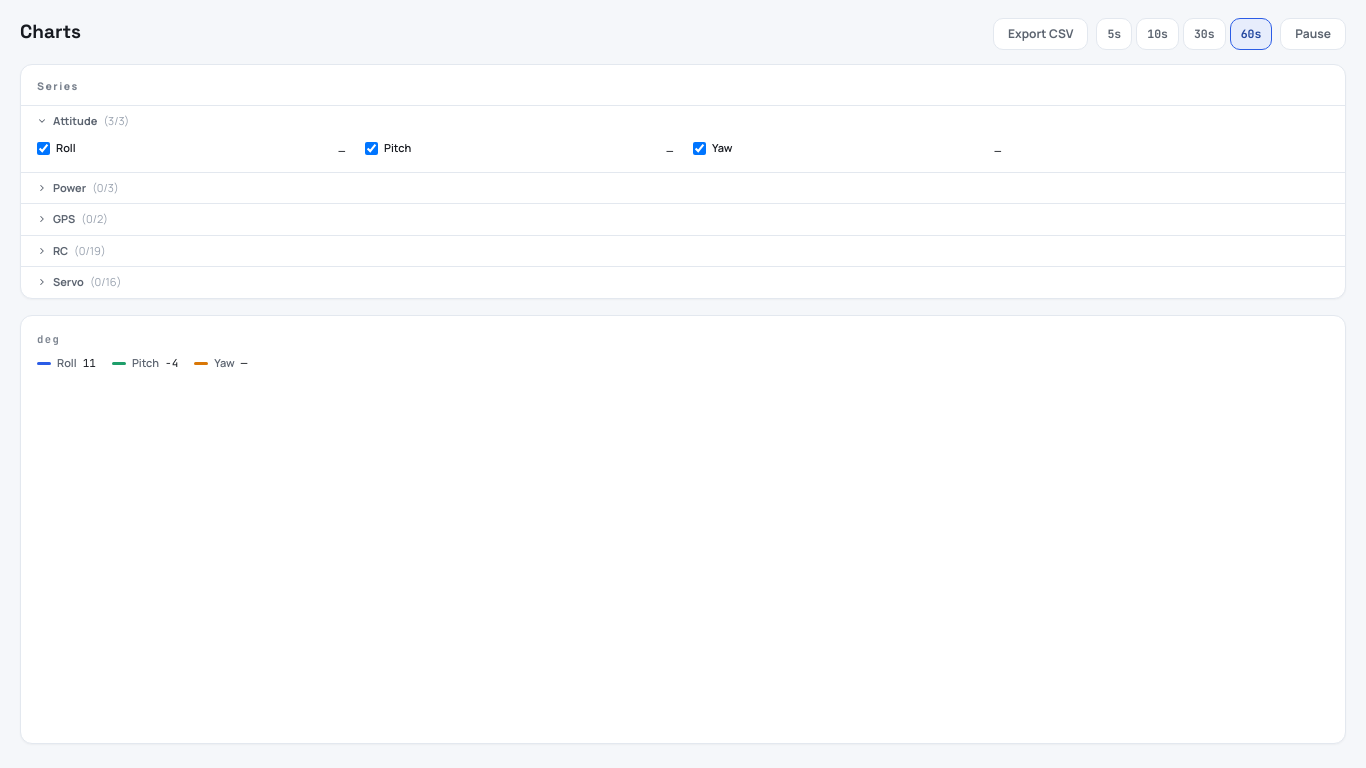
Test: ChartsPage › collapsing a group preserves its selection: the subplot stays, the header count still shows it, re-expanding finds it checked
Click the button "RC (0/19)" at (42, 251), box [21,236,1345,266]
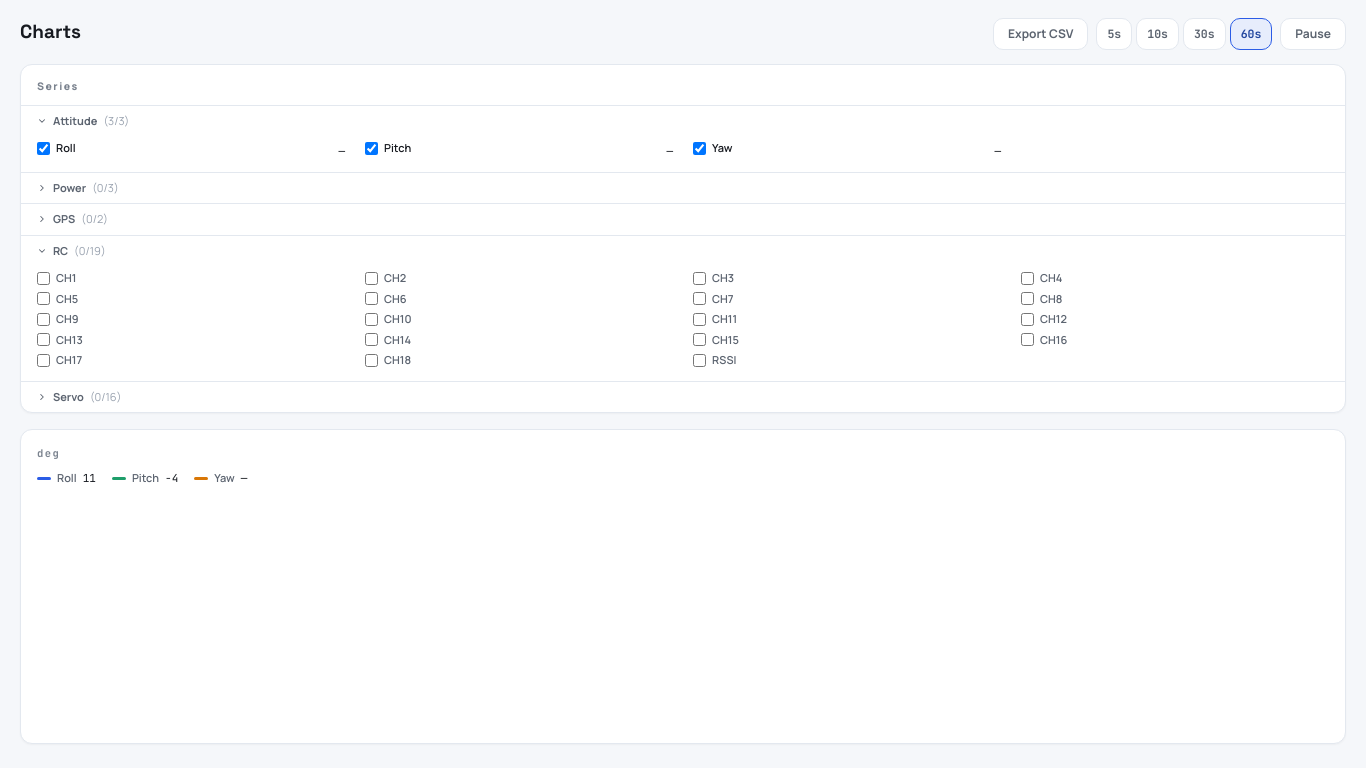
Click the checkbox labelled "CH3" at (700, 278), box [693,272,706,285]
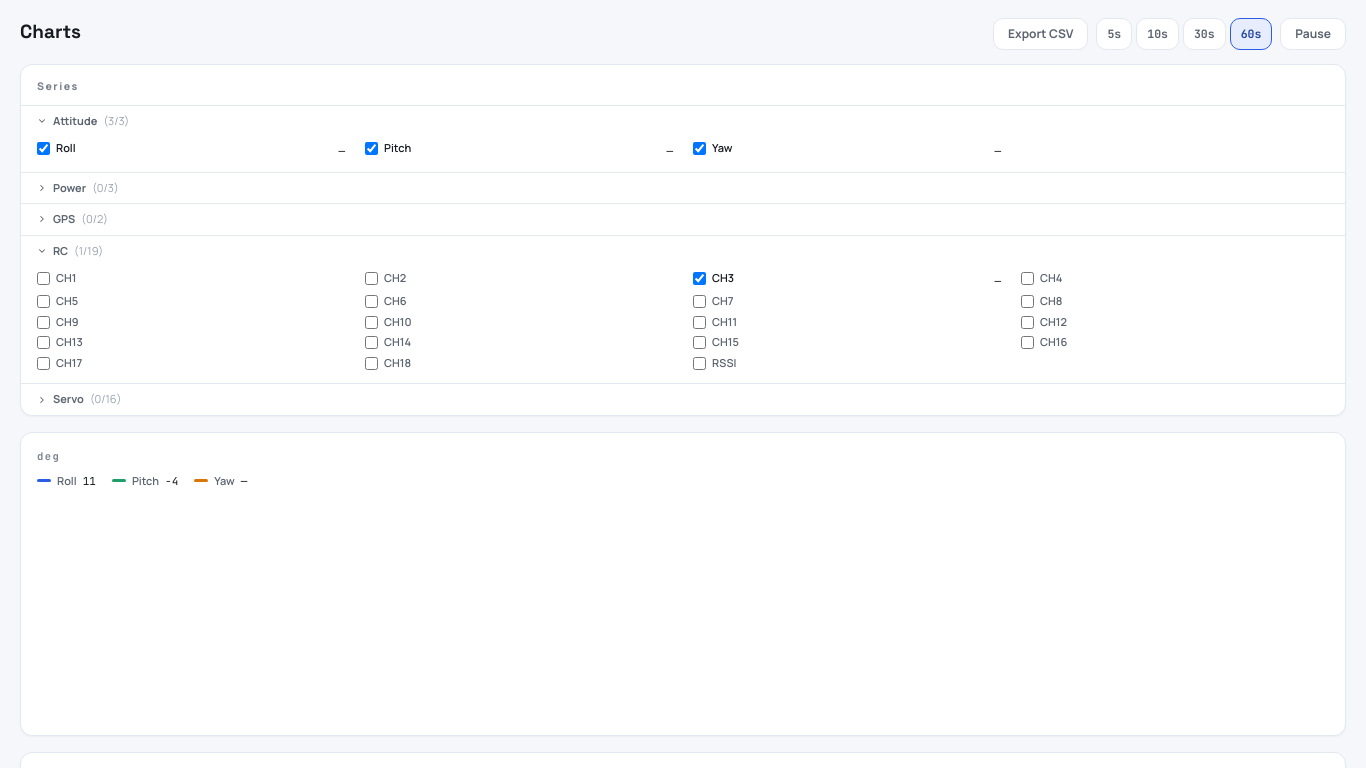
Click the button "RC (1/19)" at (42, 251), box [21,236,1345,266]
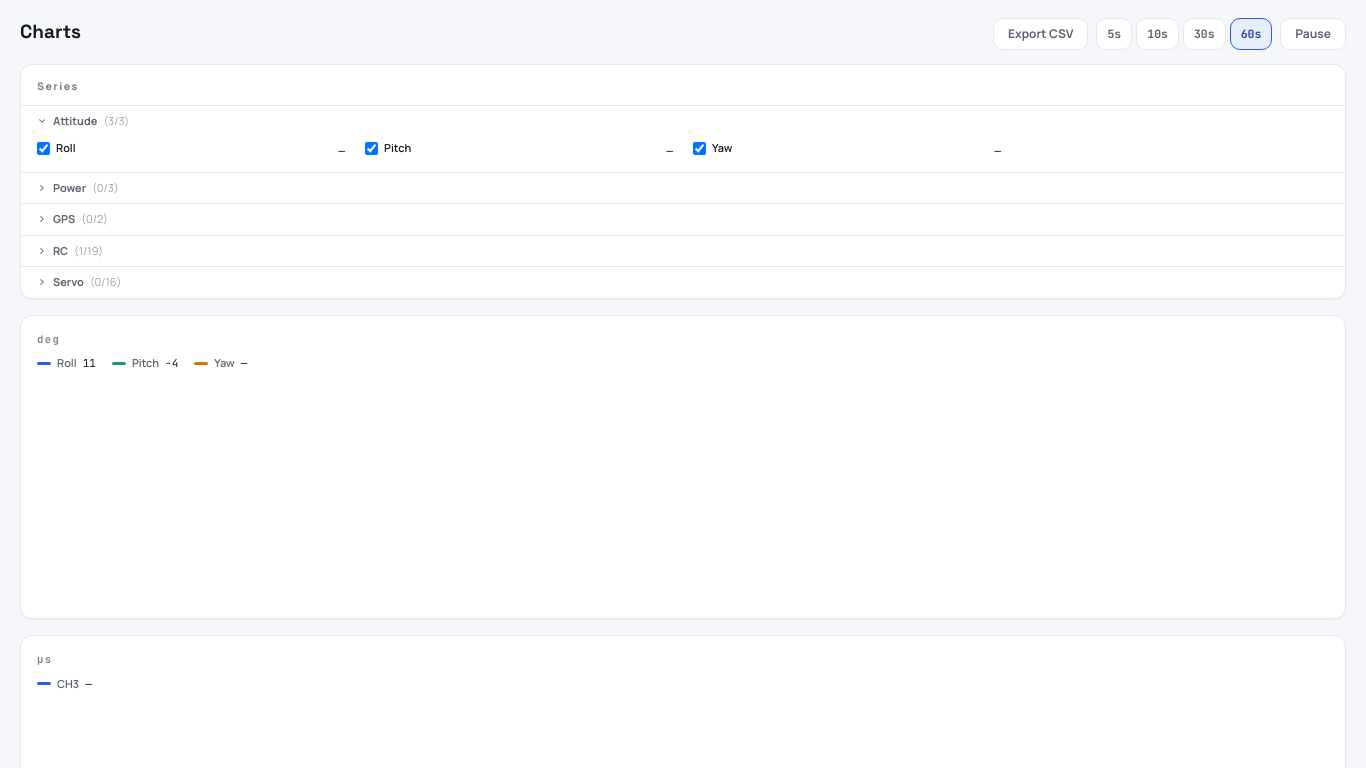
Expected: the button "RC (1/19)" is shown
Click the button "RC (1/19)" at (42, 251), box [21,236,1345,266]
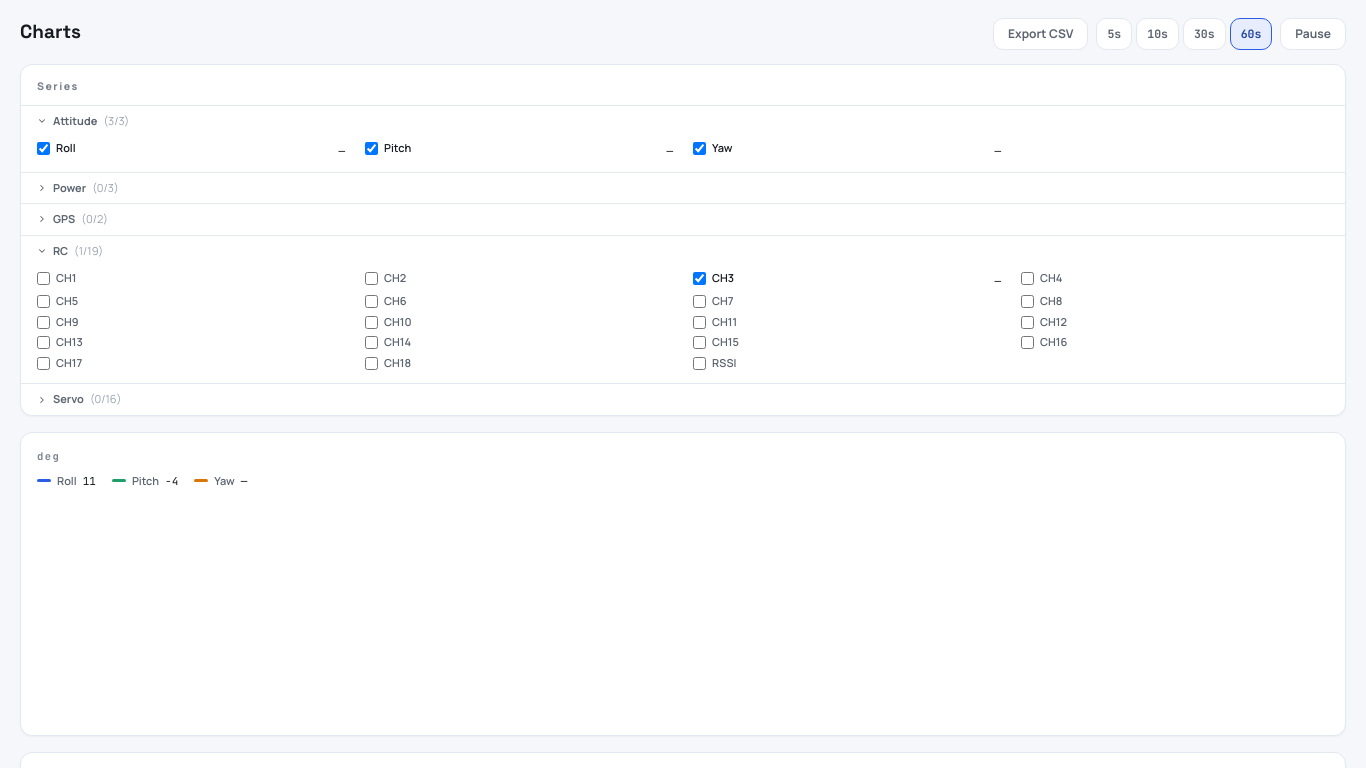
Expected: the checkbox labelled "CH3" is checked, [693,272,706,285]
